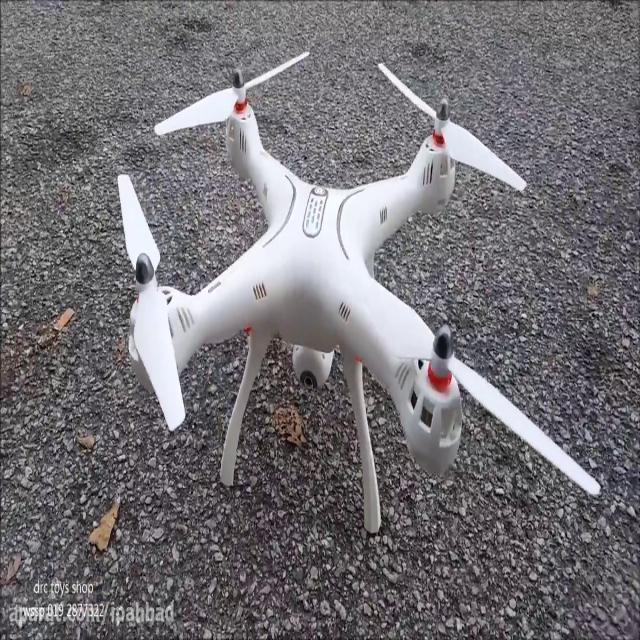drone: (111, 45, 604, 538)
